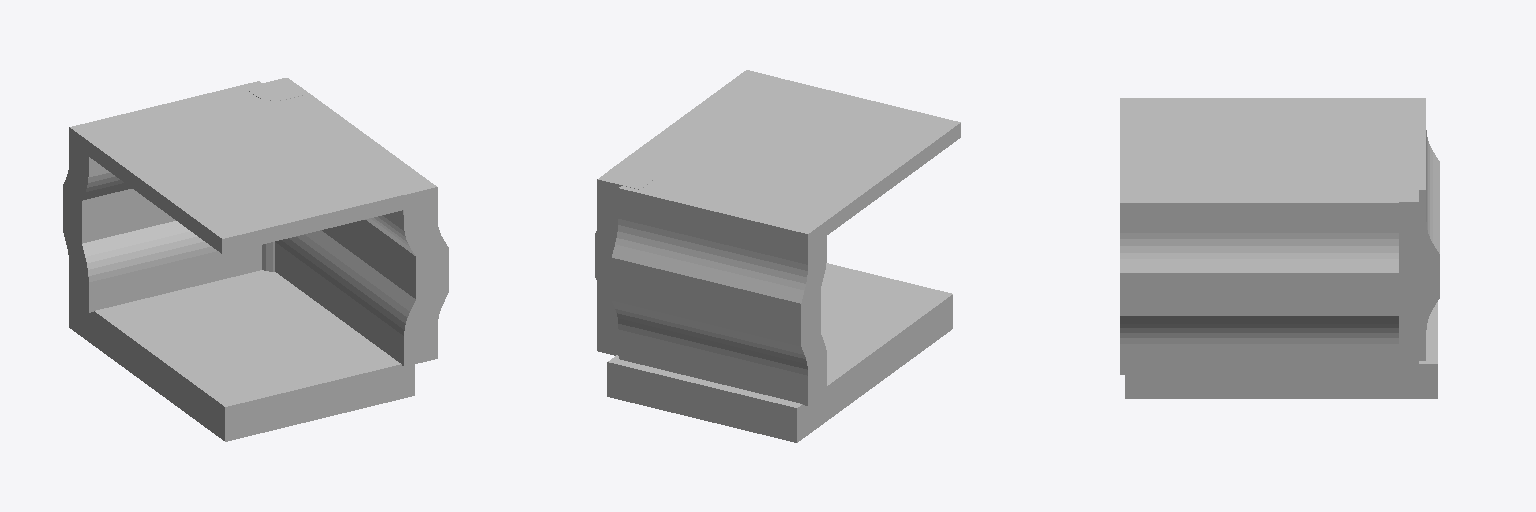
File: modulo_derecha_1.obj
3 renders of one model, left to right at view 1: azimuth 30°, elevation 25°; view 2: azimuth 150°, elevation 25°; view 3: azimuth 270°, elevation 25°, orthographic.
Visible parts, largest first — view 1: modulo_izquierda_pCube19; view 2: modulo_izquierda_pCube19; view 3: modulo_izquierda_pCube19.
Boxes of the visible parts, x1,y1,x2,y2 form: modulo_izquierda_pCube19: [63, 78, 448, 441]; modulo_izquierda_pCube19: [595, 70, 960, 442]; modulo_izquierda_pCube19: [1120, 98, 1439, 398].
Size of the model in its own units: 680 by 591 by 832.